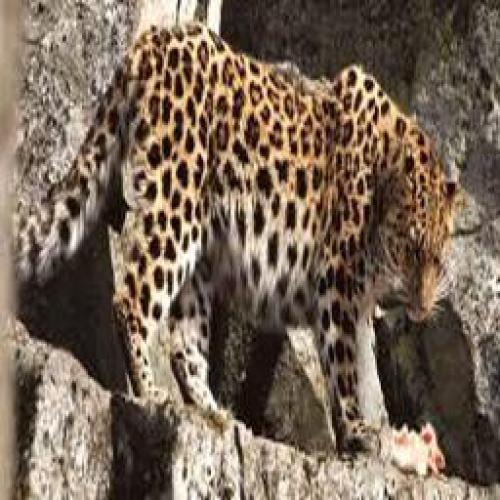amur_leopard-endangered: (40, 21, 460, 444)
